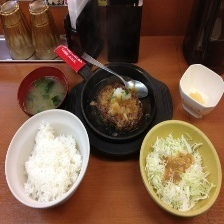rice: (12, 115, 86, 204)
